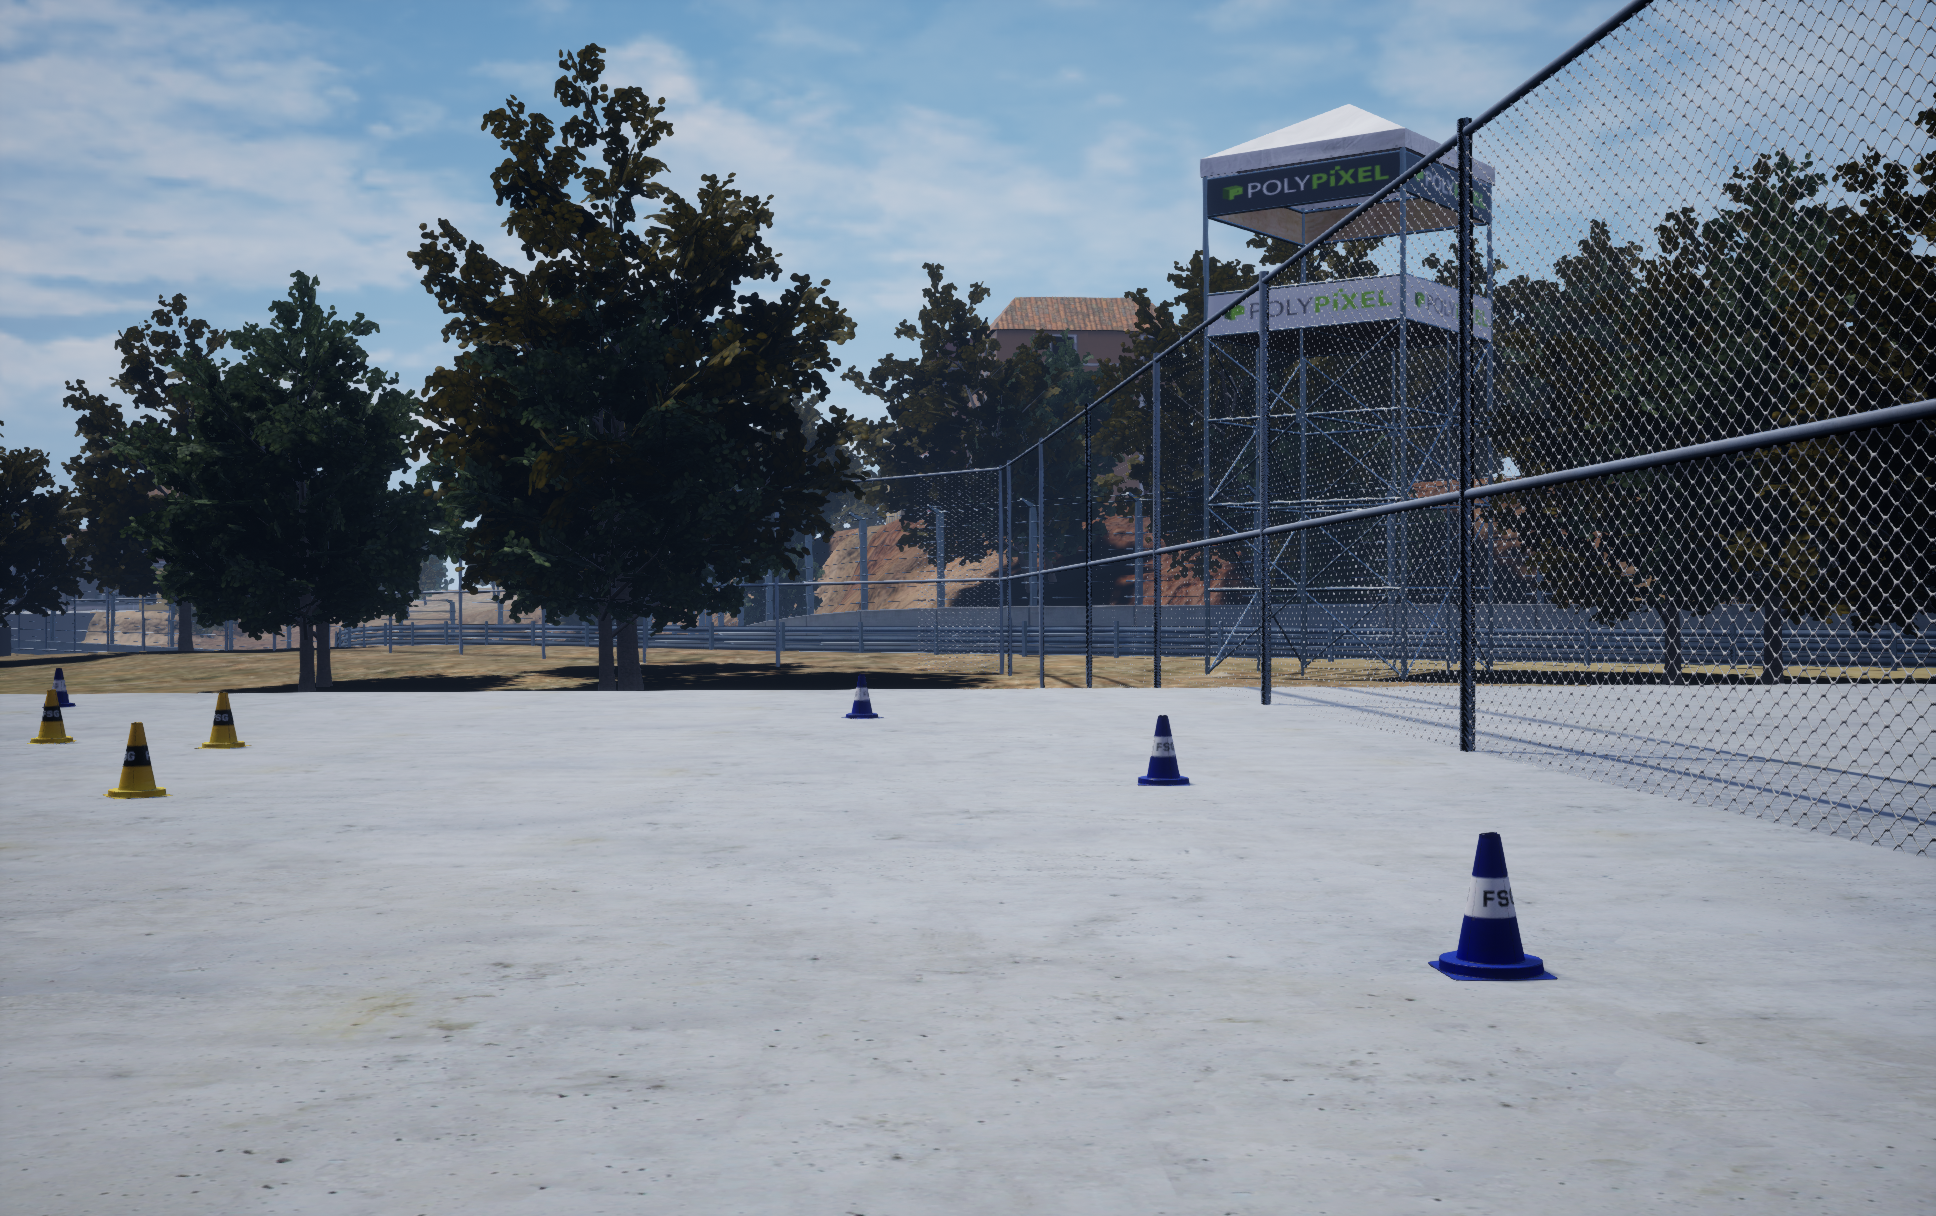blue: (104, 721, 172, 799), (193, 692, 251, 748), (27, 689, 76, 742)
yellow: (1427, 832, 1556, 981), (1138, 714, 1189, 785), (841, 674, 883, 719), (42, 668, 76, 707)
